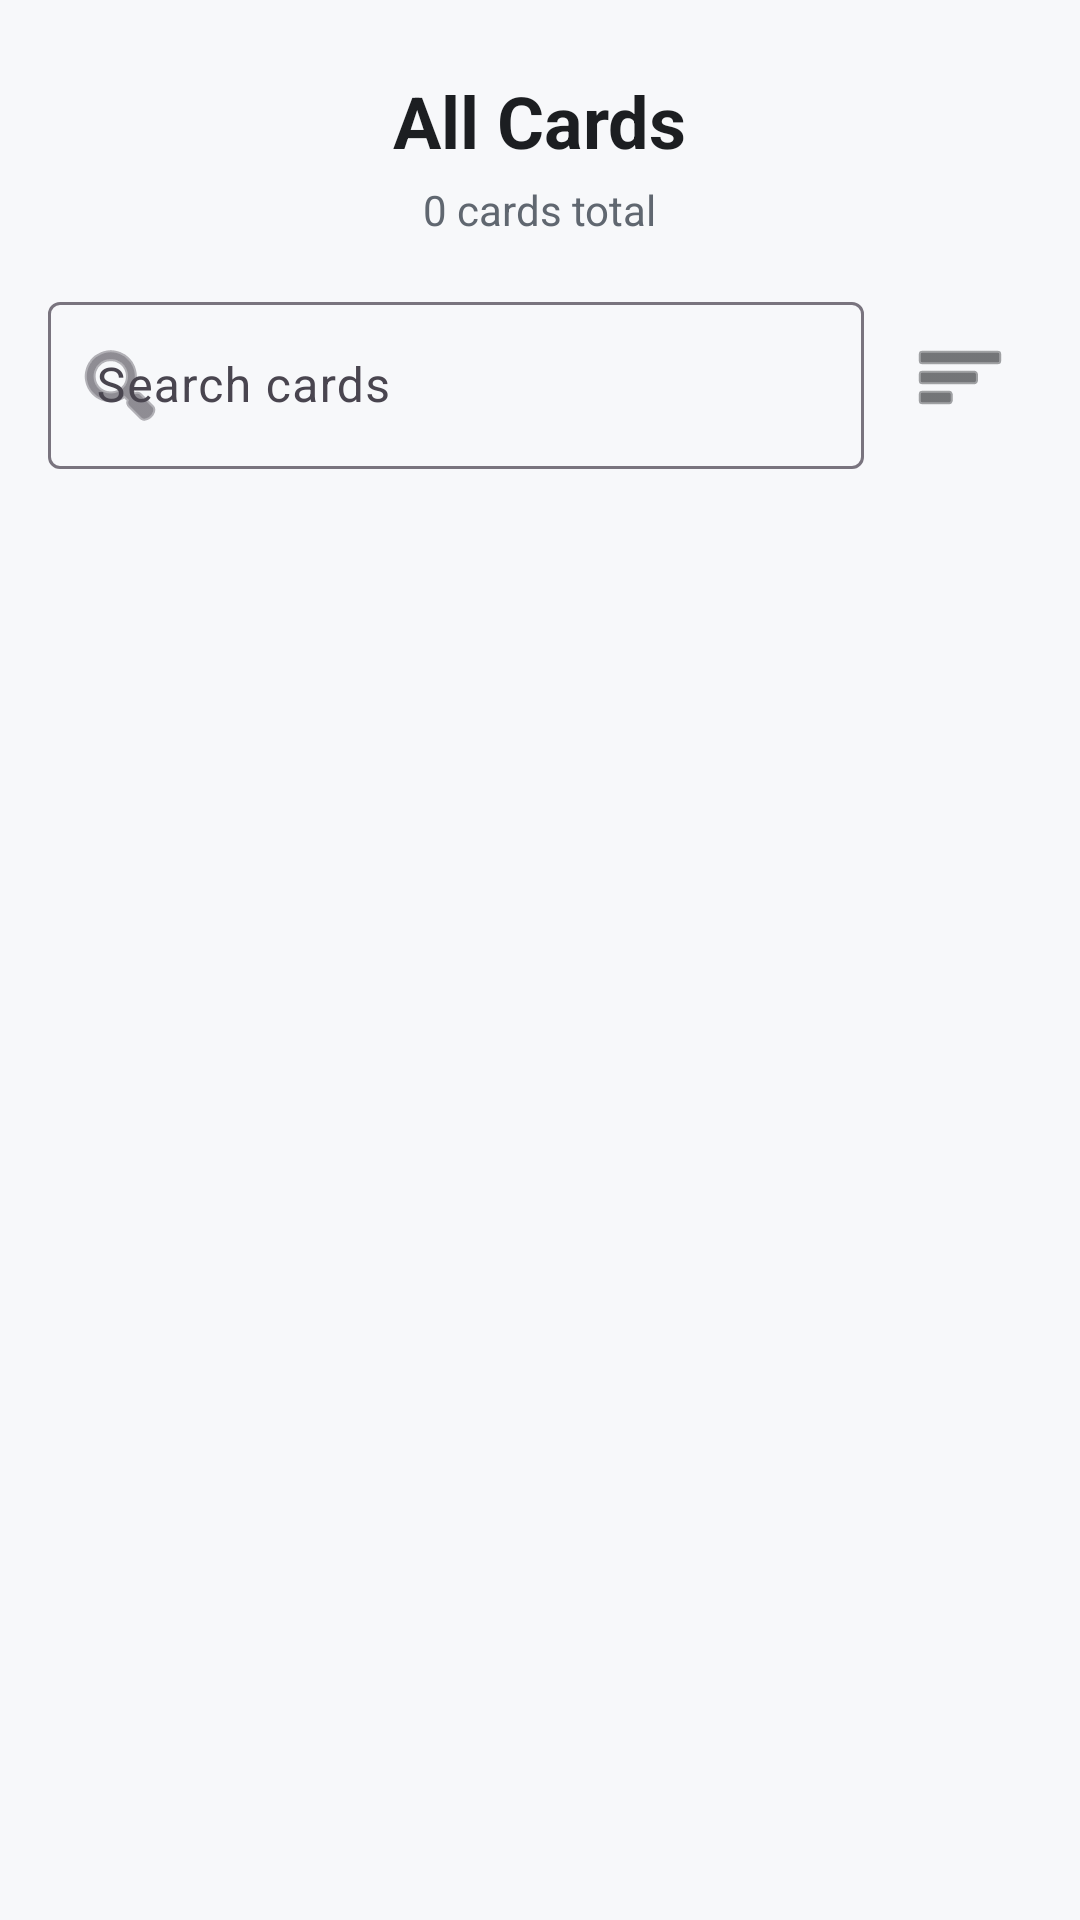

Named icons in this screenshot (1080x1920) and their bounding boxes, (x1, y1, x2, y2):
Filter Cards: (919, 351, 1001, 404)
